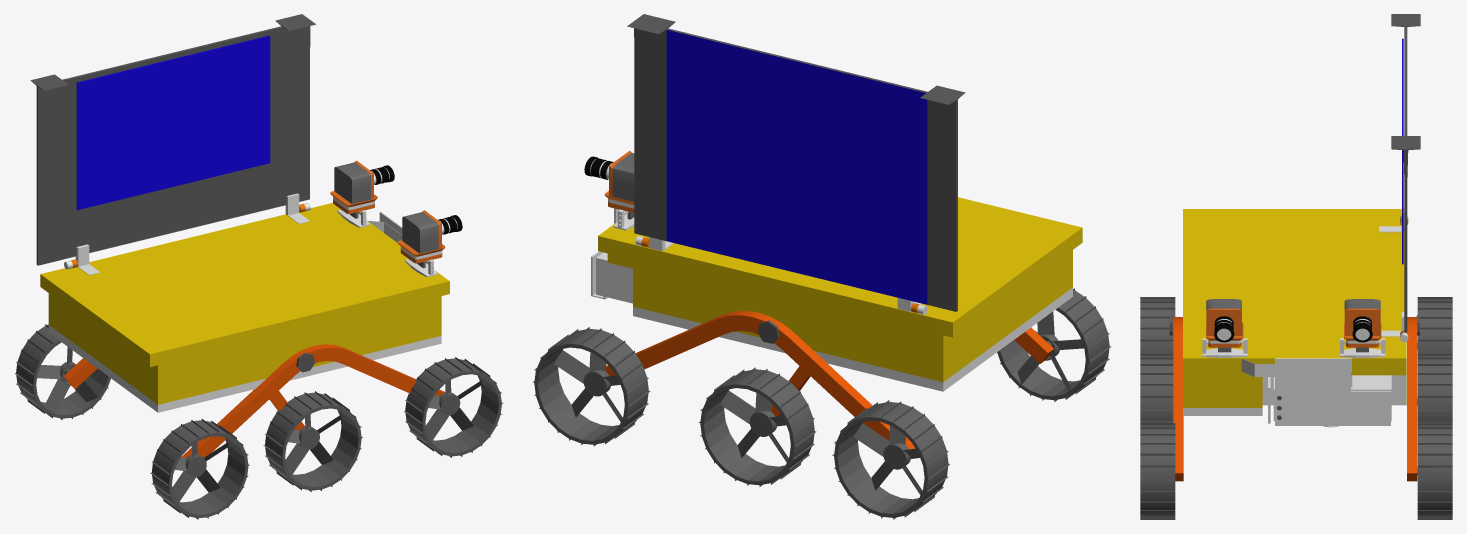
File: Rover1.fbx
3 renders of one model, left to right at view 1: azimuth 30°, elevation 25°; view 2: azimuth 150°, elevation 25°; view 3: azimuth 270°, elevation 25°, orthographic. The views are drawn at different scales.
Visible parts, largest first — view 1: Body, SolarPanel, wheel 3, Wheel 1, wheel 2, Wheel 6; view 2: SolarPanel, Body, Wheel 5, wheel 4, Wheel 6, wheel 3; view 3: Body, Wheel 1, wheel 4, Wheel 5, SolarPanel, wheel 2, Wheel 6, wheel 3.
Part boxes in pixels (x1,y1,x2,y2): Body: (40,160,462,457); SolarPanel: (30,14,316,266); wheel 3: (150,419,249,519); Wheel 1: (404,357,503,457); wheel 2: (263,391,362,491); Wheel 6: (14,324,110,419); SolarPanel: (627,14,965,311); Body: (584,150,1082,449); Wheel 5: (698,367,816,486); wheel 4: (532,327,650,446); Wheel 6: (832,400,949,519); wheel 3: (997,288,1111,401); Body: (1169,209,1419,481); Wheel 1: (1140,423,1175,519); wheel 4: (1417,423,1452,519); Wheel 5: (1417,353,1452,422); SolarPanel: (1391,14,1420,332); wheel 2: (1140,353,1173,422); Wheel 6: (1417,297,1452,353); wheel 3: (1140,297,1175,353).
Bounding box in the file's own units: 206 × 204 × 163.
